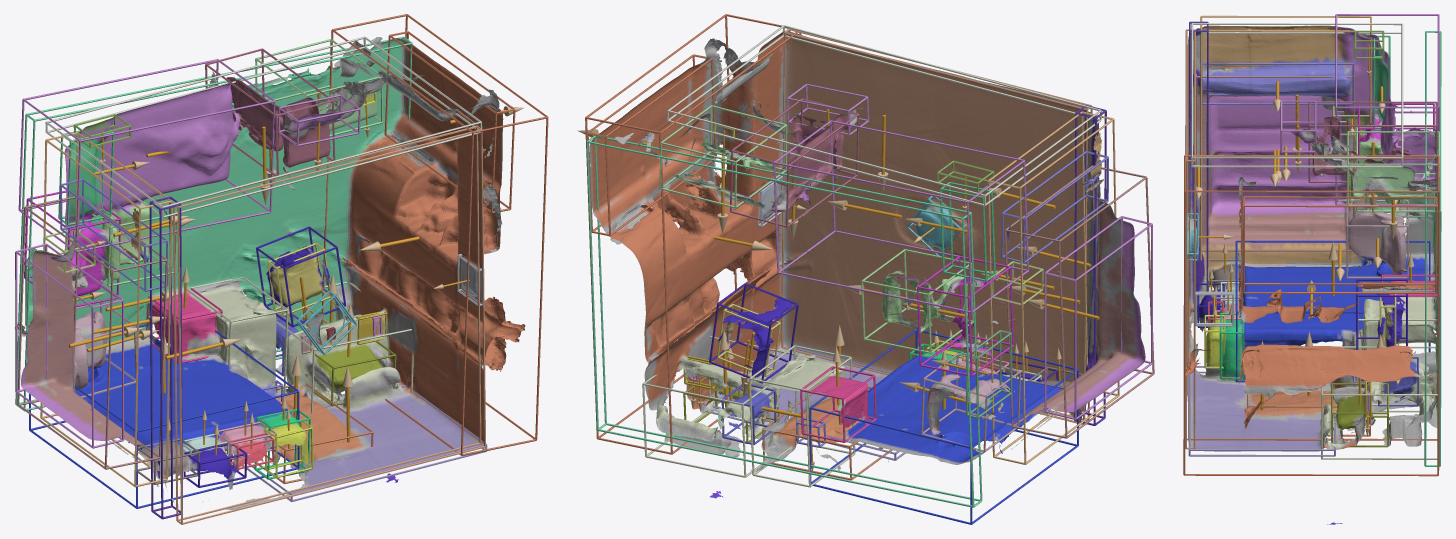
The model's file is scene_00128_03-obb.compressed.gltf.
3 renders of one model, left to right at view 1: azimuth 30°, elevation 25°; view 2: azimuth 150°, elevation 25°; view 3: azimuth 270°, elevation 25°, orthographic. The views are drawn at different scales.
Size of the model in its own units: 5.39 by 4.23 by 2.64.
